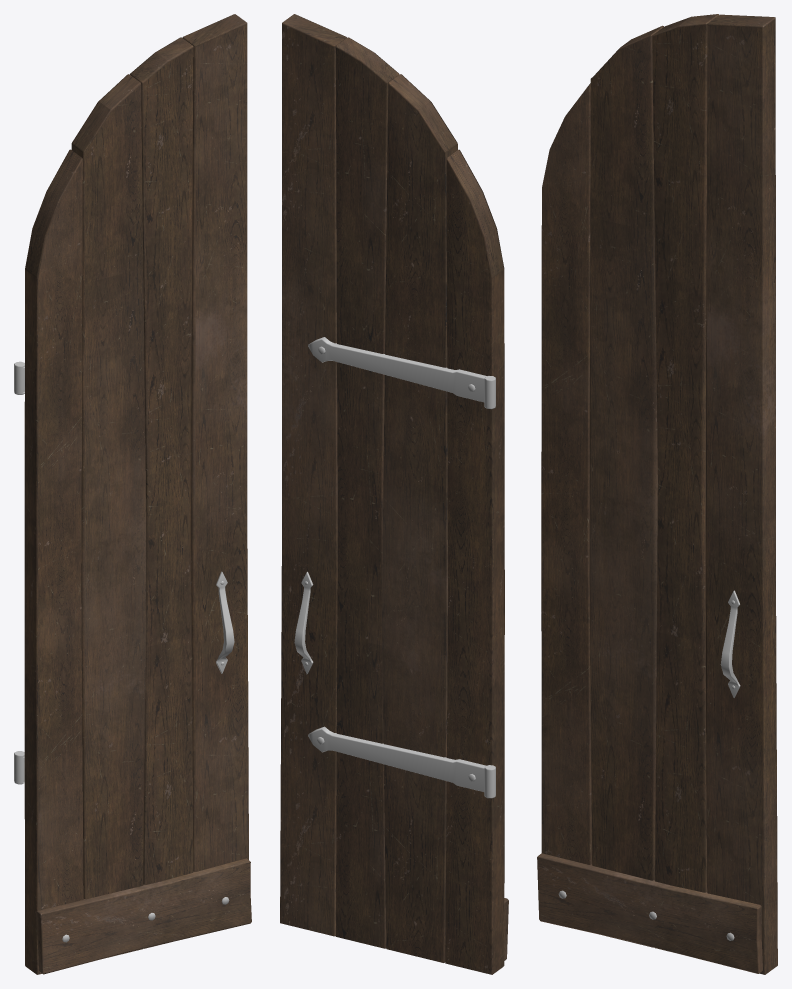
Rendered from SM_Wooden_Door_02_L.fbx.
3 renders of one model, left to right at view 1: azimuth 30°, elevation 25°; view 2: azimuth 150°, elevation 25°; view 3: azimuth 330°, elevation 25°, orthographic. The views are drawn at different scales.
Parts seen in each view (by area): view 1: SM_Wooden_Door_02_L_LOD0; view 2: SM_Wooden_Door_02_L_LOD0; view 3: SM_Wooden_Door_02_L_LOD0.
Boxes of the visible parts, left/top/right/bottom form: SM_Wooden_Door_02_L_LOD0: left=14, top=14, right=251, bottom=974; SM_Wooden_Door_02_L_LOD0: left=280, top=14, right=508, bottom=974; SM_Wooden_Door_02_L_LOD0: left=537, top=14, right=777, bottom=974.
Size of what is drawn, in the model's own units: 104 by 407 by 26.33.
